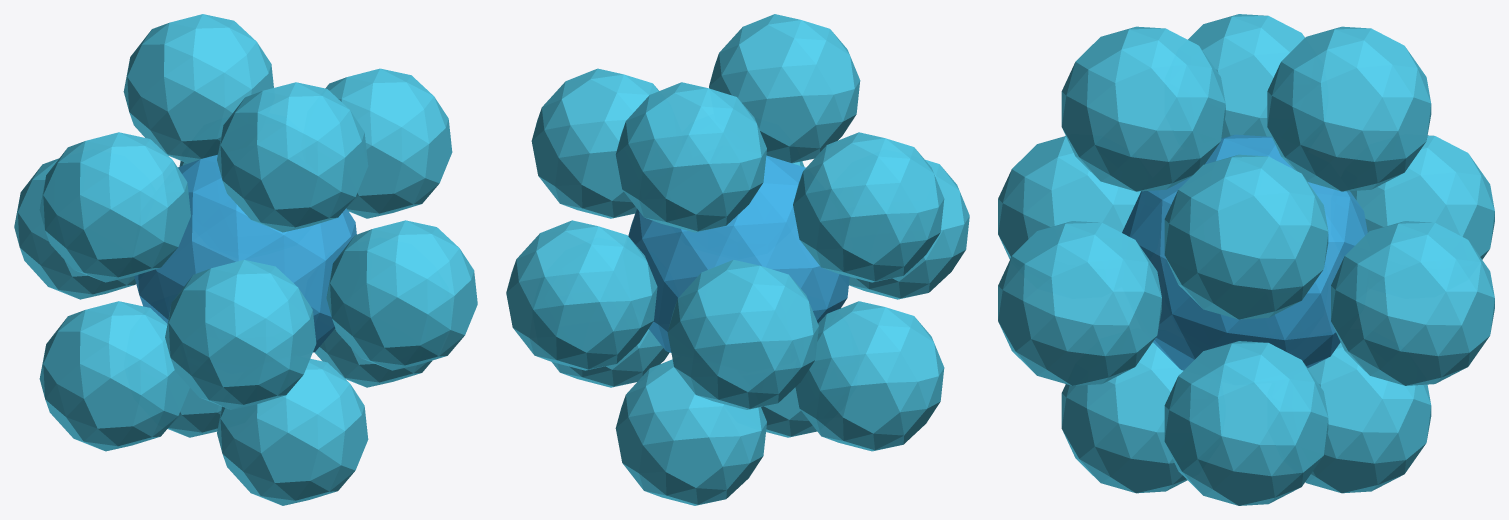
The model's file is fractalsnubdodecahedron1.glb.
3 renders of one model, left to right at view 1: azimuth 30°, elevation 25°; view 2: azimuth 150°, elevation 25°; view 3: azimuth 270°, elevation 25°, orthographic. The views are drawn at different scales.
Size of the model in its own units: 9.4 by 9.4 by 9.4.
